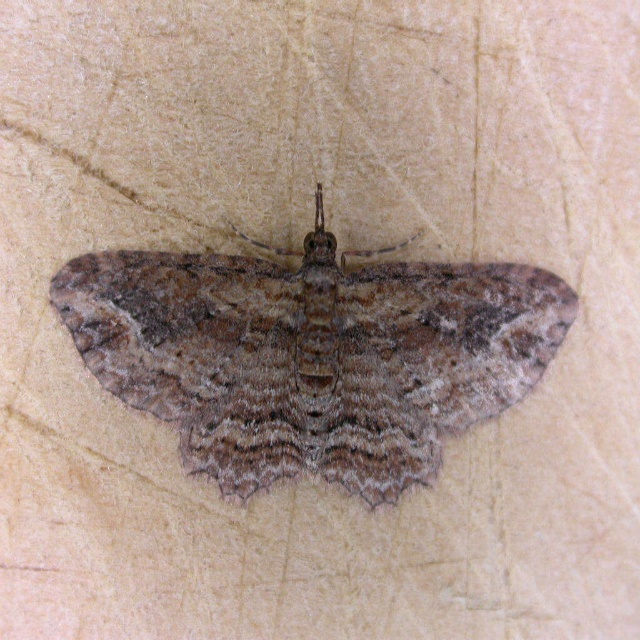Moths and butterflies: (48, 181, 580, 518)
